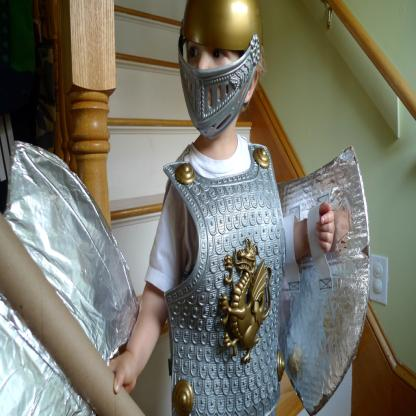Helmet: (179, 0, 261, 141)
